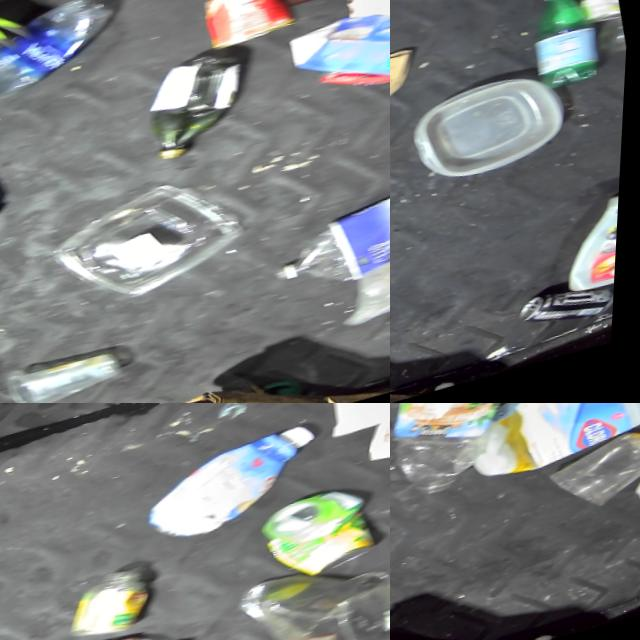can: (254, 484, 390, 593), (504, 281, 620, 349), (353, 403, 390, 475)
non_white_jug: (461, 403, 640, 492)
plastic_bottle: (272, 177, 390, 298), (390, 403, 524, 507), (0, 0, 118, 110), (516, 0, 613, 105), (19, 620, 197, 640)
